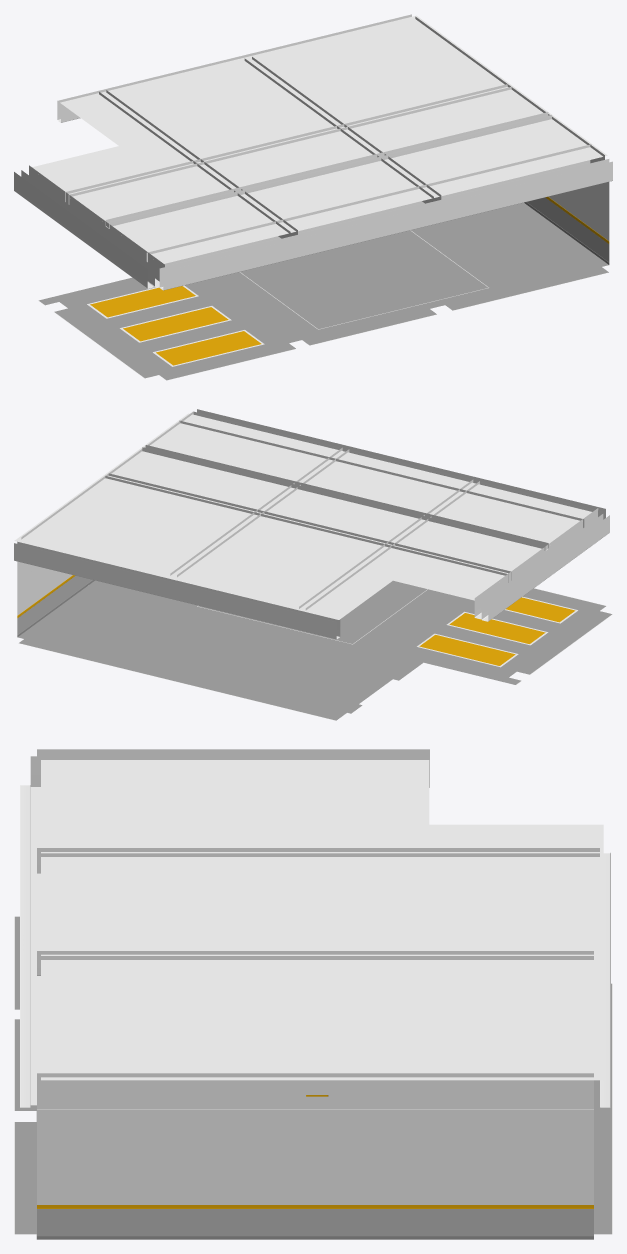
3 renders of one model, top to bottom at view 1: azimuth 30°, elevation 25°; view 2: azimuth 150°, elevation 25°; view 3: azimuth 270°, elevation 25°, orthographic. The views are drawn at different scales.
Visible parts, largest first — view 1: SM_H_Building_FutureTech_AssemblyArea_InterWall_02; view 2: SM_H_Building_FutureTech_AssemblyArea_InterWall_02; view 3: SM_H_Building_FutureTech_AssemblyArea_InterWall_02.
Boxes of the visible parts, x1=… form: SM_H_Building_FutureTech_AssemblyArea_InterWall_02: x1=14, y1=14, x2=612, y2=380; SM_H_Building_FutureTech_AssemblyArea_InterWall_02: x1=14, y1=409, x2=612, y2=720; SM_H_Building_FutureTech_AssemblyArea_InterWall_02: x1=14, y1=749, x2=612, y2=1239.
Size of the model in its own units: 923 by 1217 by 282.
